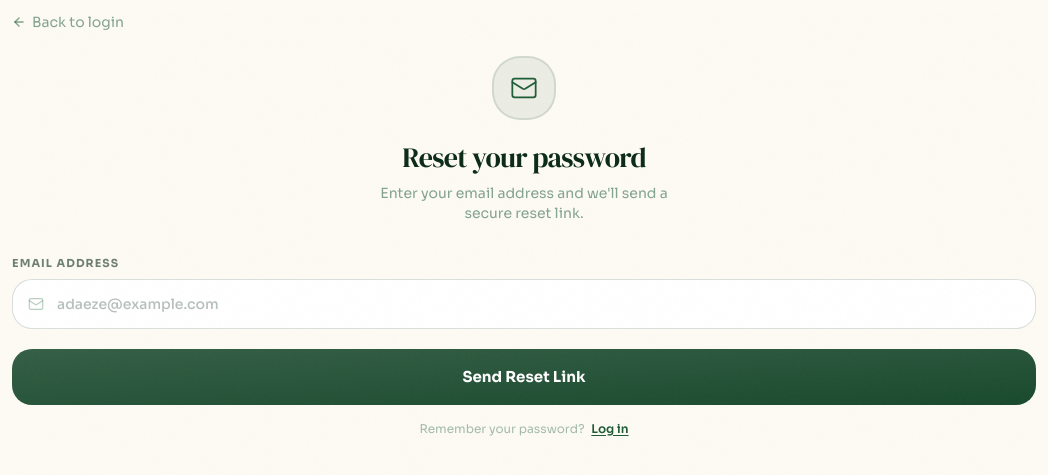
Scenario: ForgotPassword › Validation › shows error when submitted with empty email
Click the button "Send Reset Link": [524, 377] box [12,349,1036,405]
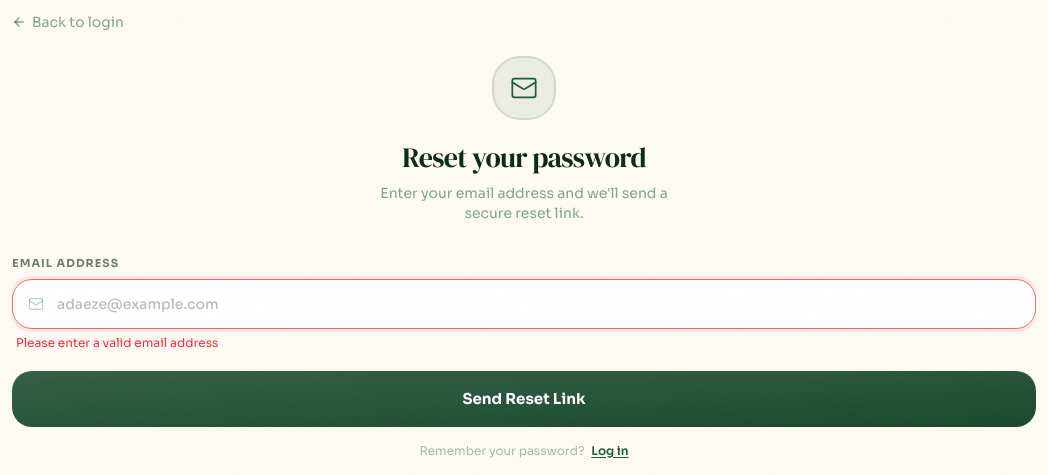
Result: the text "Please enter a valid email address" is shown at [16,335,218,350]
